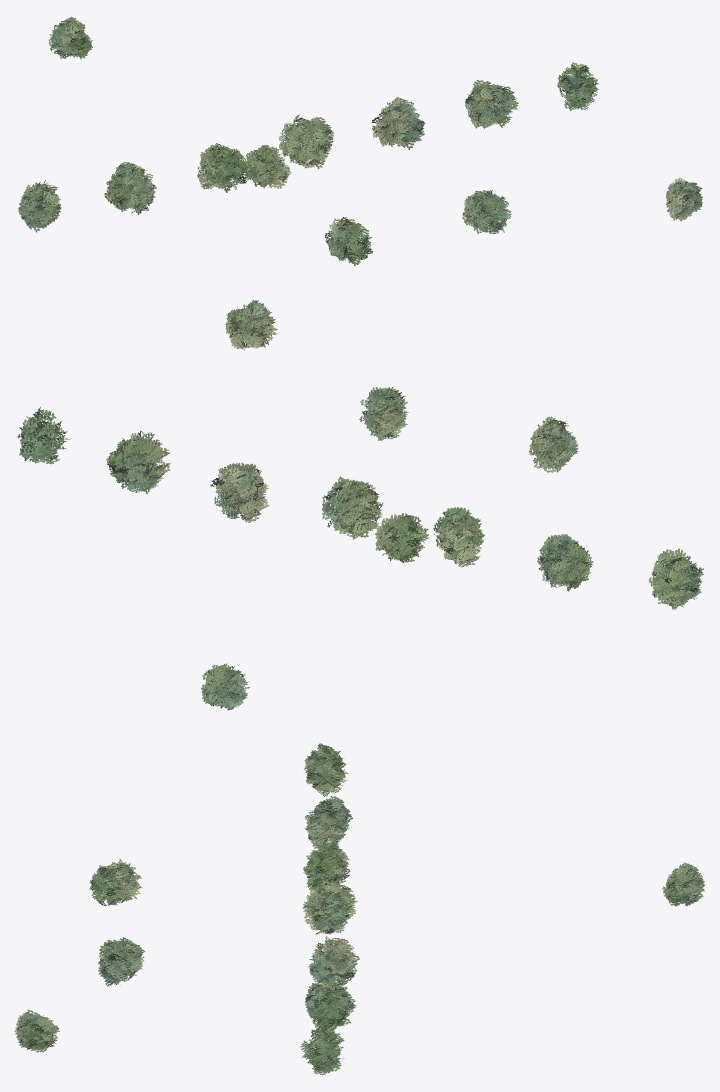
Rendered from campus-tree--5_-3-near.glb.
The picture shows the model from 3 angles, top to bottom: view 1: azimuth 30°, elevation 25°; view 2: azimuth 150°, elevation 25°; view 3: azimuth 270°, elevation 25°; orthographic projection. The views are drawn at different scales.
Visible parts, largest first — view 1: Campus leaf canopy; view 2: Campus leaf canopy; view 3: Campus leaf canopy.
Part boxes in pixels (x1,y1,x2,y2): Campus leaf canopy: (18, 16, 702, 265); Campus leaf canopy: (17, 299, 703, 710); Campus leaf canopy: (14, 743, 704, 1075).
Bounding box in the file's own units: 71.82 × 8.01 × 72.54.
Materials: 1 (1 with a texture image).
